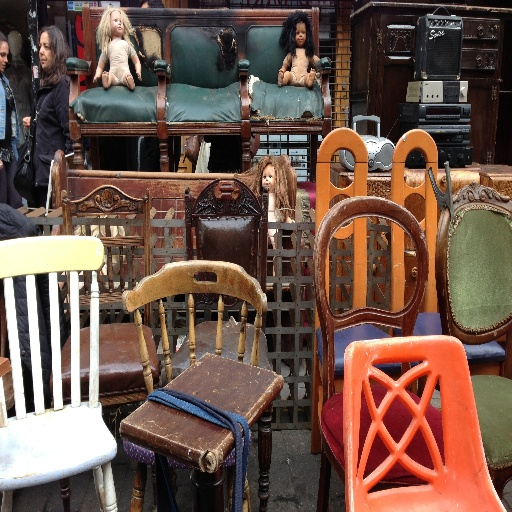hand: (21, 112, 30, 130), (135, 70, 142, 82), (92, 75, 98, 83)
